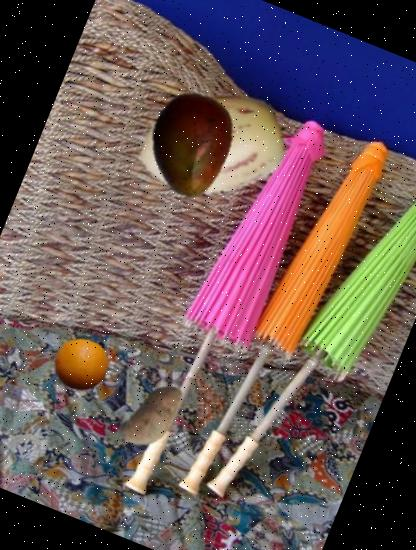Mango: (122, 76, 261, 216)
Orange: (44, 328, 116, 401)
Pepino: (113, 47, 308, 242)
Potato: (104, 366, 204, 467)
